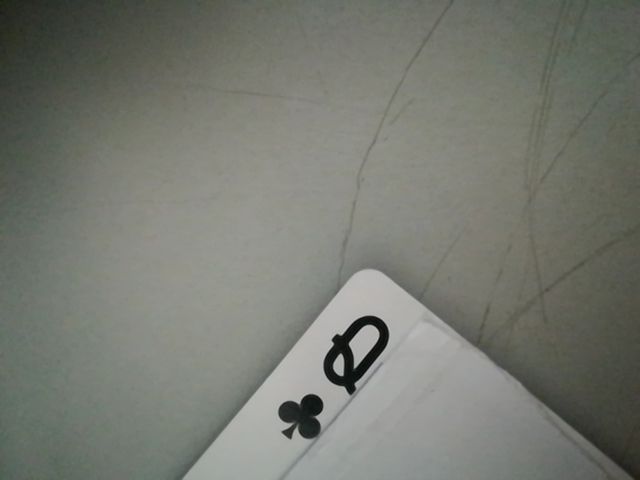mh q: (262, 301, 400, 456)
